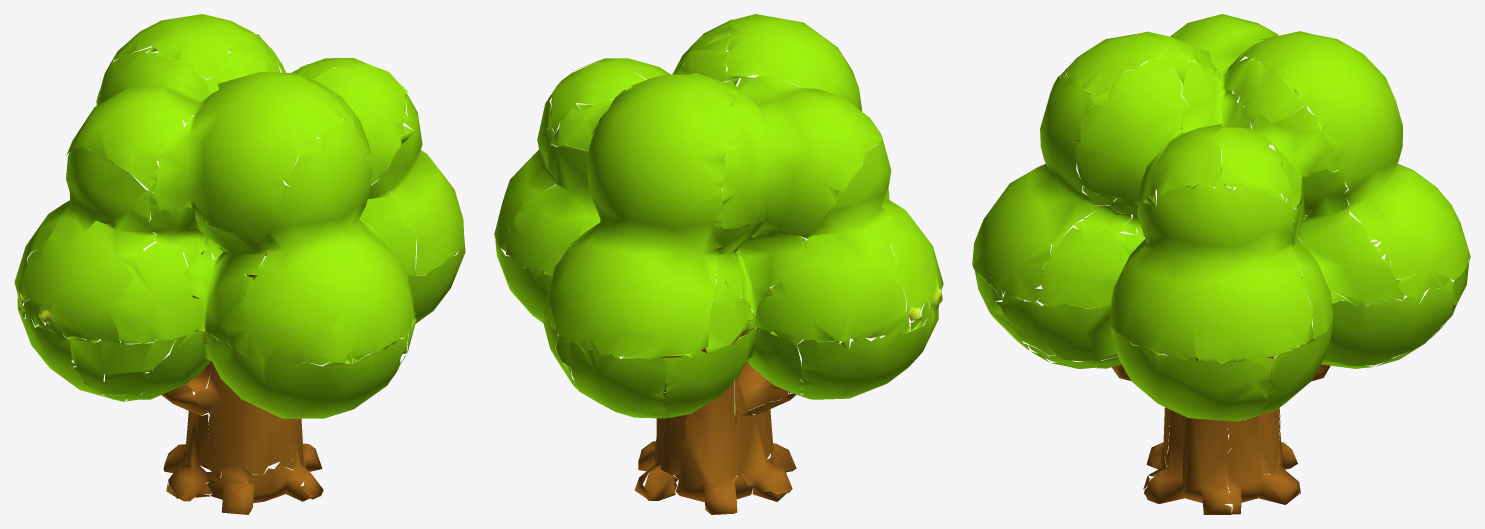
The model's file is baum_gruen_3.glb.
The picture shows the model from 3 angles, left to right: view 1: azimuth 30°, elevation 25°; view 2: azimuth 150°, elevation 25°; view 3: azimuth 270°, elevation 25°; orthographic projection.
Parts seen in each view (by area): view 1: tripo_node_64925aad-76d7-42c7-b45f-3b601d3d23a0; view 2: tripo_node_64925aad-76d7-42c7-b45f-3b601d3d23a0; view 3: tripo_node_64925aad-76d7-42c7-b45f-3b601d3d23a0.
Boxes of the visible parts, x1,y1,x2,y2 form: tripo_node_64925aad-76d7-42c7-b45f-3b601d3d23a0: (14,14,465,514); tripo_node_64925aad-76d7-42c7-b45f-3b601d3d23a0: (494,14,943,514); tripo_node_64925aad-76d7-42c7-b45f-3b601d3d23a0: (972,14,1470,514).
Size of the model in its own units: 0.9921 by 0.9736 by 1.01.
1 material, 1 textured.
